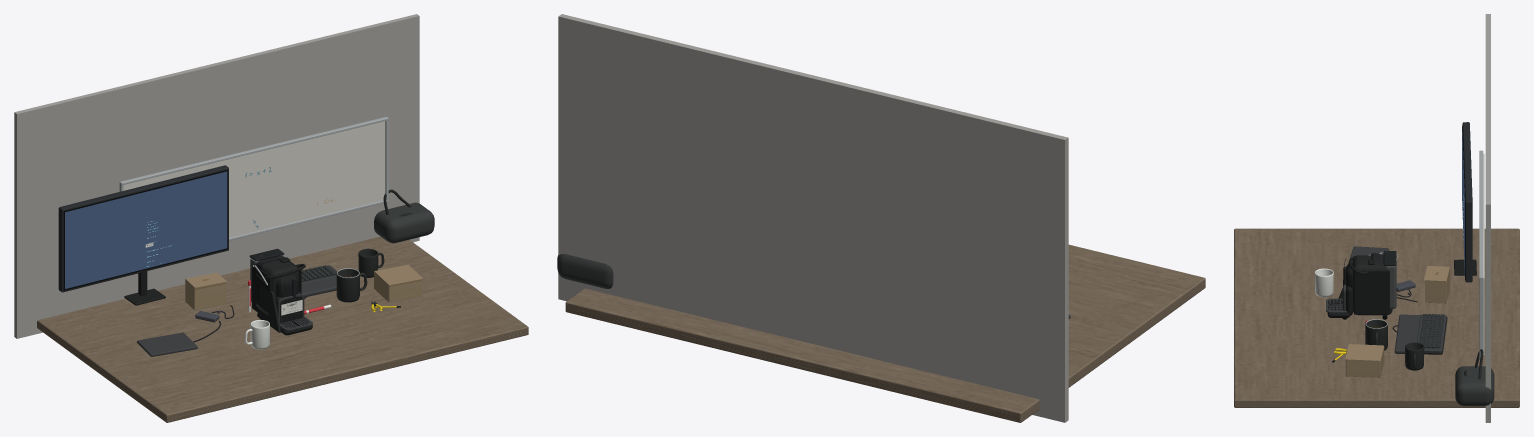
File: codex.glb
The picture shows the model from 3 angles, left to right: view 1: azimuth 30°, elevation 25°; view 2: azimuth 150°, elevation 25°; view 3: azimuth 270°, elevation 25°; orthographic projection. The views are drawn at different scales.
Visible parts, largest first — view 1: Back wall, Continuous oak desktop, Whiteboard face, Code editor screen, Monitor housing, Soft slouchy bag, Whiteboard horizontal frame.001, Monitor black inner bezel, Partly cropped laptop base, Cardboard carton, Cardboard carton.001, black_mug ceramic shell (+8 smaller); view 2: Back wall, Continuous oak desktop, Soft slouchy bag; view 3: Continuous oak desktop, Back wall, Right side panel, Soft slouchy bag, Monitor housing, Integrated keyboard wrist rest, Cardboard carton.001, Whiteboard horizontal frame.001, Top lid.001, Cardboard carton, black_mug ceramic shell, Machine main long black housing (+9 smaller).
Boxes of the visible parts, x1=… form: Back wall: x1=14, y1=14, x2=419, y2=338; Continuous oak desktop: x1=37, y1=236, x2=528, y2=422; Whiteboard face: x1=123, y1=121, x2=385, y2=237; Code editor screen: x1=65, y1=171, x2=227, y2=288; Monitor housing: x1=58, y1=165, x2=228, y2=292; Soft slouchy bag: x1=374, y1=202, x2=434, y2=243; Whiteboard horizontal frame.001: x1=120, y1=116, x2=388, y2=185; Monitor black inner bezel: x1=63, y1=170, x2=228, y2=290; Partly cropped laptop base: x1=137, y1=332, x2=197, y2=356; Cardboard carton: x1=185, y1=279, x2=225, y2=310; Cardboard carton.001: x1=374, y1=272, x2=422, y2=302; black_mug ceramic shell: x1=336, y1=269, x2=359, y2=302; Back wall: x1=558, y1=14, x2=1068, y2=422; Continuous oak desktop: x1=565, y1=244, x2=1205, y2=422; Soft slouchy bag: x1=557, y1=254, x2=613, y2=288; Continuous oak desktop: x1=1234, y1=228, x2=1519, y2=407; Back wall: x1=1485, y1=14, x2=1490, y2=422; Right side panel: x1=1354, y1=270, x2=1389, y2=314; Soft slouchy bag: x1=1455, y1=366, x2=1494, y2=406; Monitor housing: x1=1462, y1=122, x2=1472, y2=282; Integrated keyboard wrist rest: x1=1394, y1=314, x2=1420, y2=353; Cardboard carton.001: x1=1346, y1=346, x2=1384, y2=377; Whiteboard horizontal frame.001: x1=1479, y1=150, x2=1483, y2=278; Top lid.001: x1=1345, y1=344, x2=1383, y2=361; Cardboard carton: x1=1425, y1=267, x2=1449, y2=303; black_mug ceramic shell: x1=1365, y1=320, x2=1387, y2=350; Machine main long black housing: x1=1352, y1=255, x2=1392, y2=315.
Bounding box in the file's own units: 3.02 × 1.6 × 1.9.
33 materials, 1 textured.
